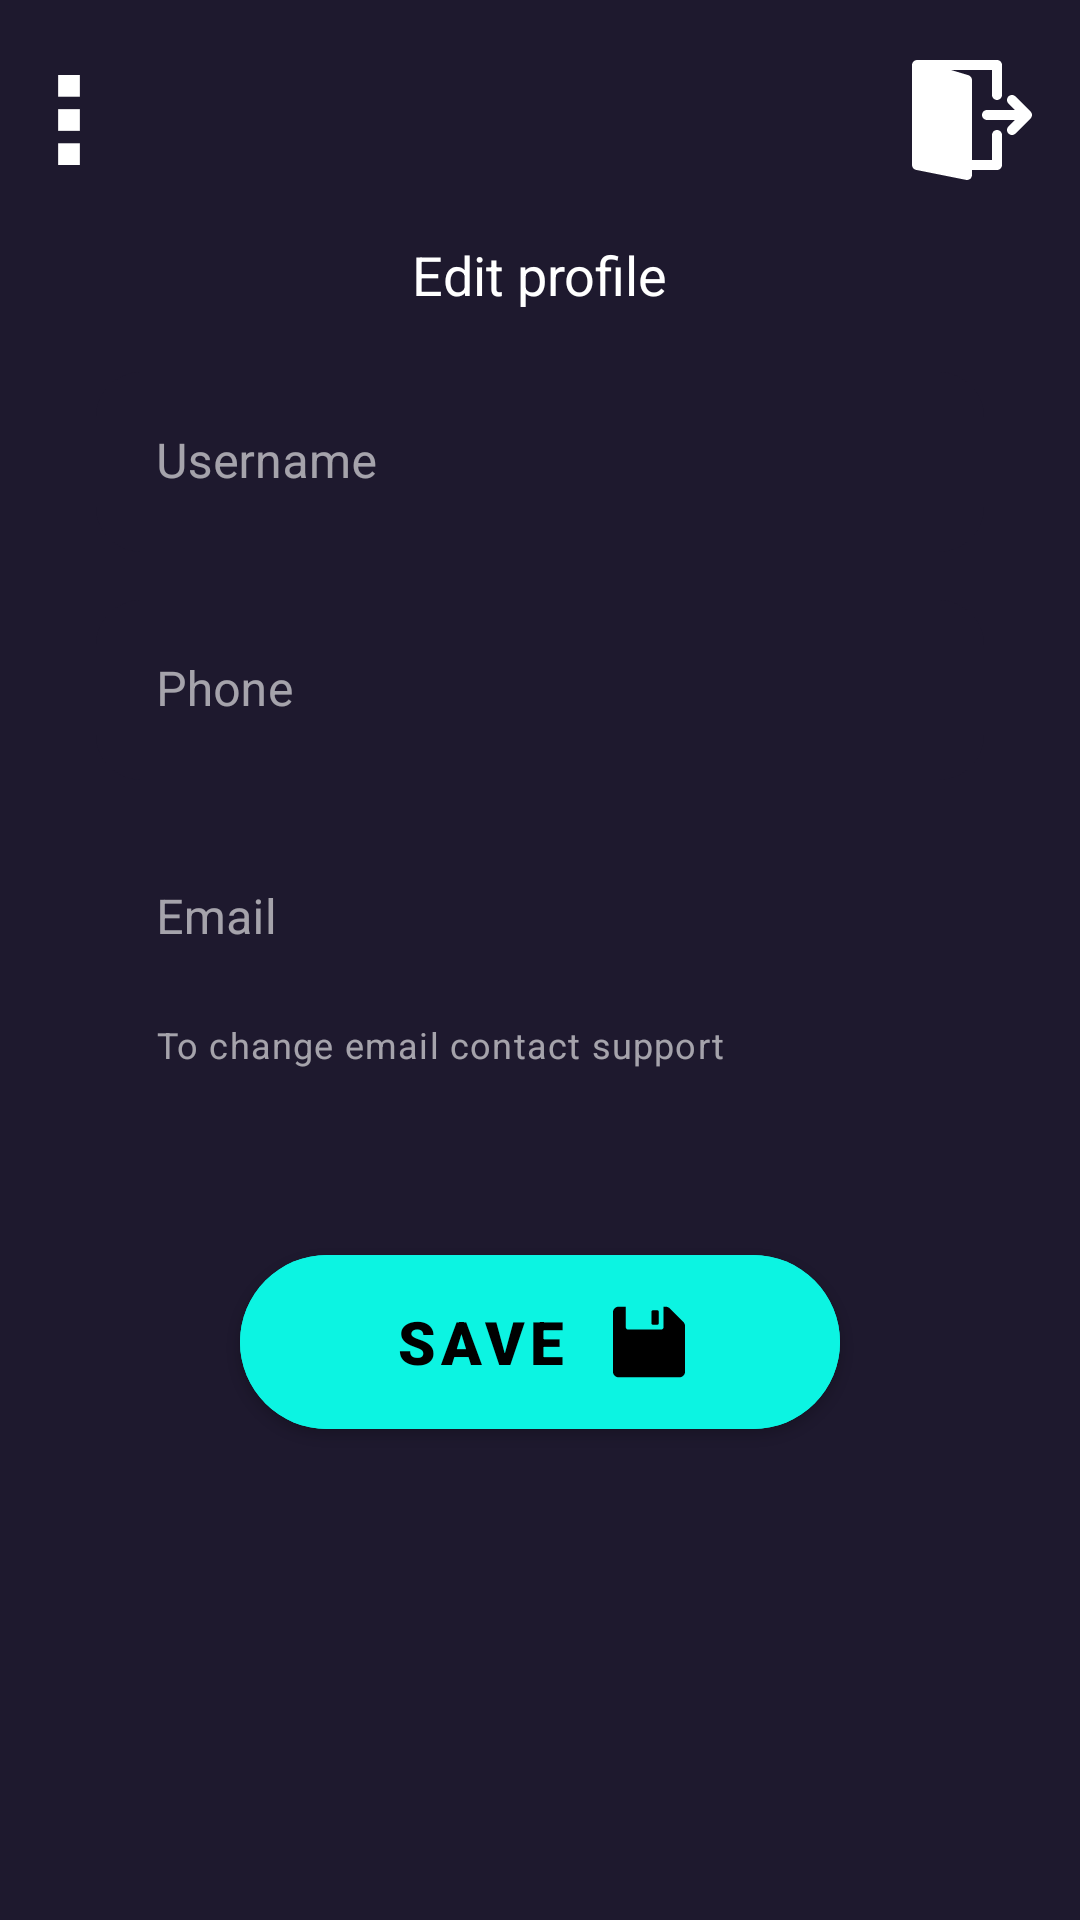

Named icons in this screenshot (1080w x 1920h) and their bounding boxes, BBox(x1, y1, x2, y2):
exit: BBox(912, 60, 1032, 180)
menu: BBox(58, 75, 80, 165)
